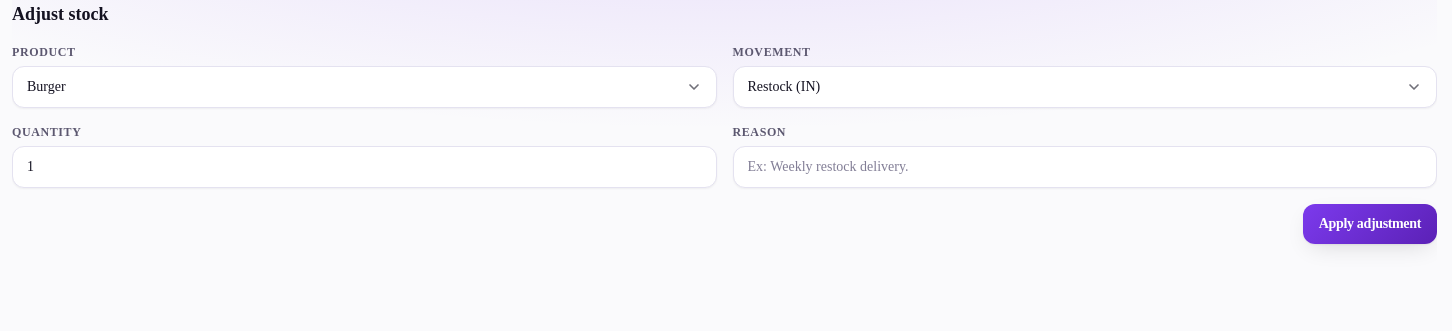
Scenario: AdjustStockForm › maps inventory_below_zero to its message
Type "x" into the field labelled "Reason" at (1085, 167), box [732,146,1437,188]
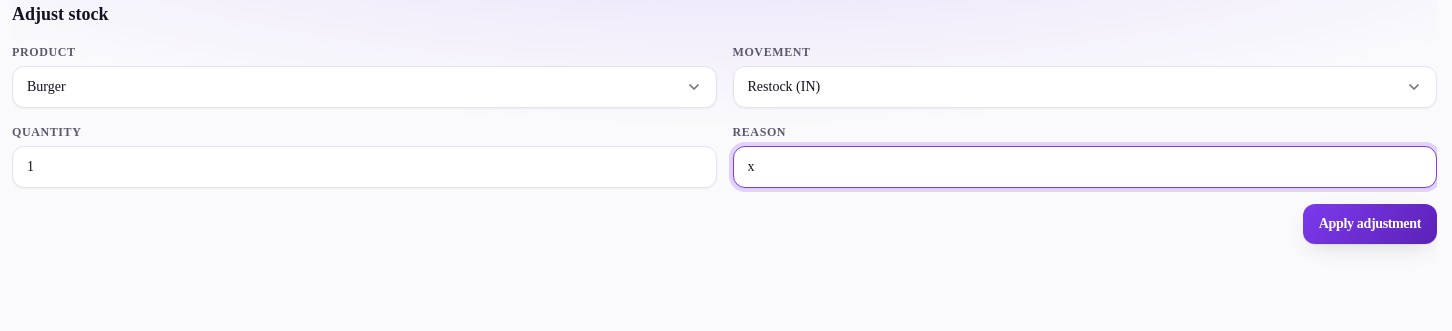
Click the button "Apply adjustment" at (1370, 224), box [1303,204,1437,244]
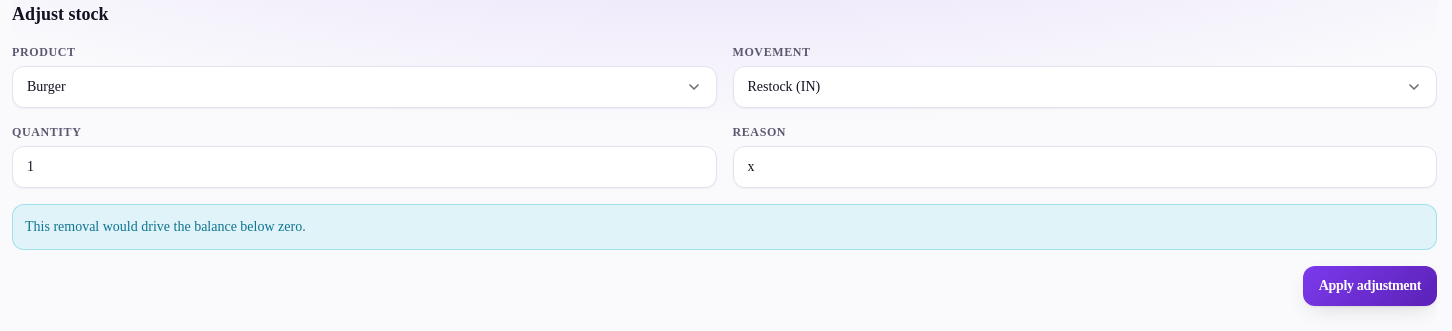
Expected: the message shows "below zero", [25,219,306,234]
